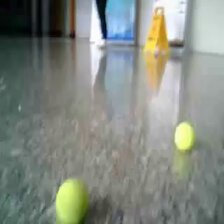tennis: (56, 178, 90, 224), (175, 122, 195, 150)
